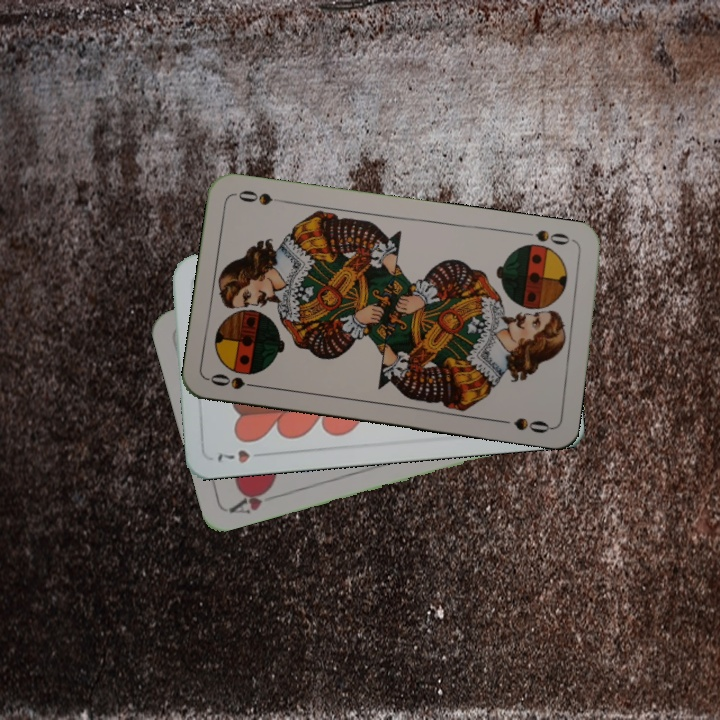H7: (212, 446, 269, 466)
HA: (225, 481, 277, 517)
SO: (206, 369, 265, 392), (531, 225, 579, 248)
